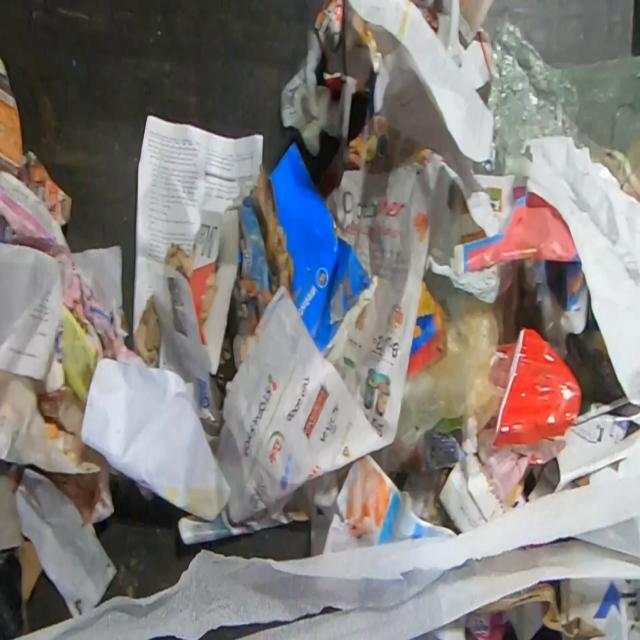cardboard: (16, 539, 44, 603)
rigid_plastic: (488, 325, 584, 449)
soft_plastic: (473, 19, 640, 203), (380, 294, 506, 476)
